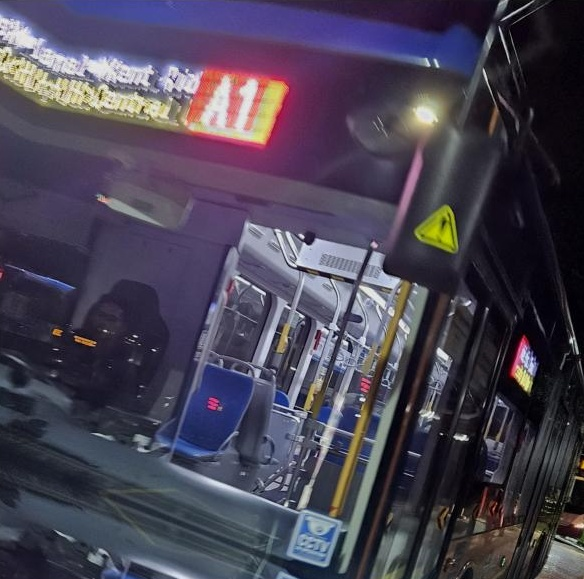bus: (182, 69, 285, 143)
